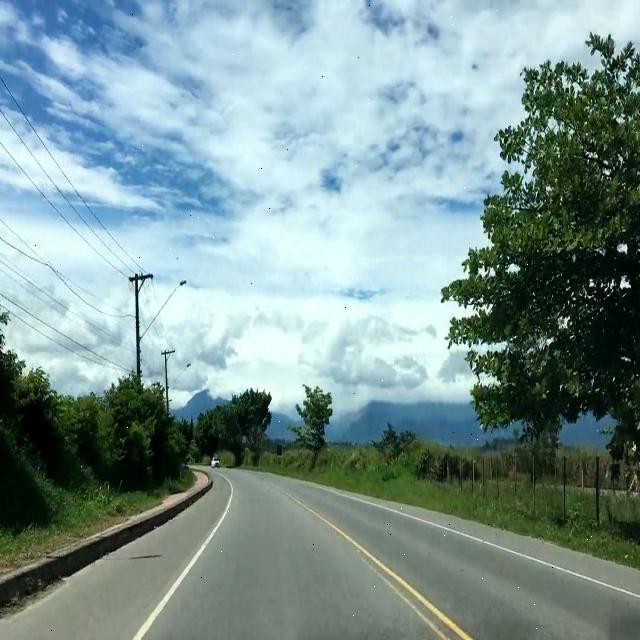lane: (284, 488, 489, 640), (350, 497, 640, 599), (134, 480, 234, 640)
road: (0, 469, 640, 638)
